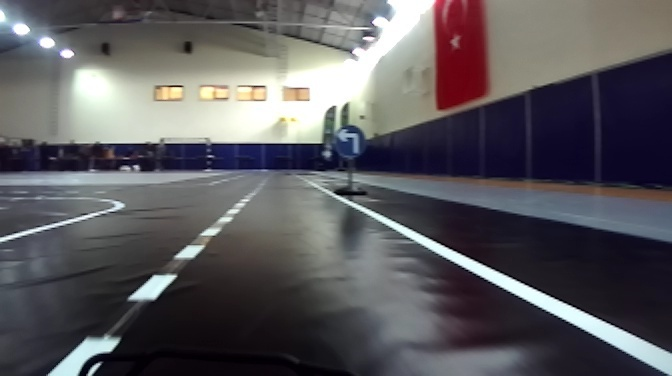sola_donus: (332, 121, 370, 158)
